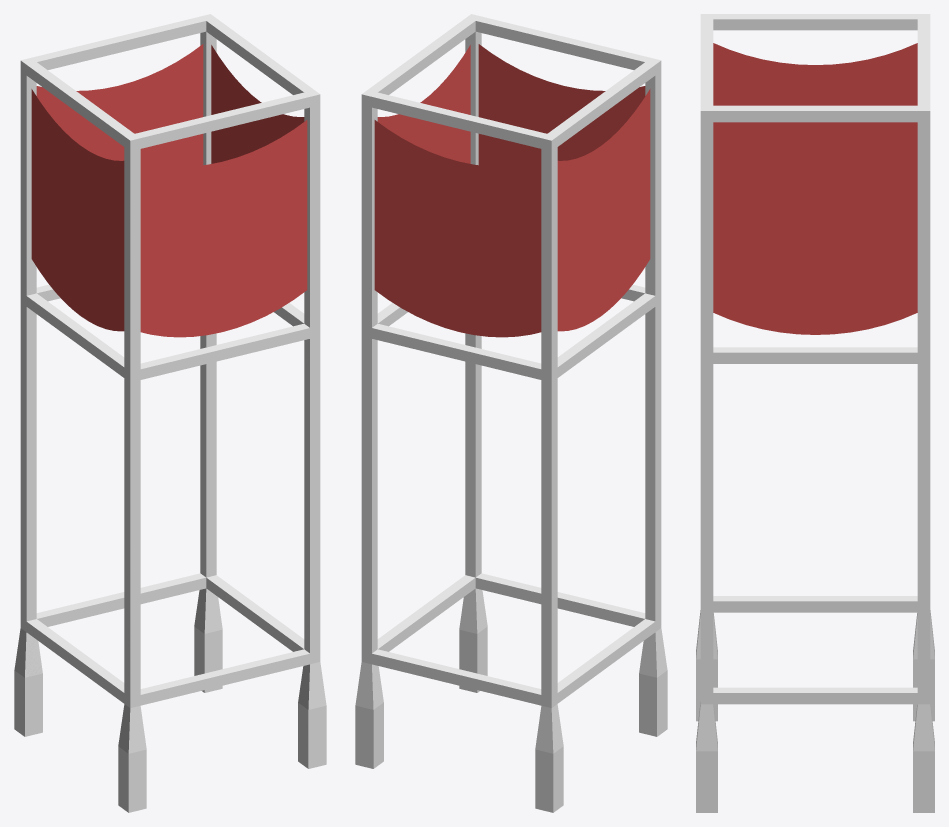
Rendered from kit_bannerTowerRed.obj.
3 views of the same model, side by side, from view 1: azimuth 30°, elevation 25°; view 2: azimuth 150°, elevation 25°; view 3: azimuth 270°, elevation 25° (orthographic). The views are drawn at different scales.
Parts seen in each view (by area): view 1: bannerTowerRed; view 2: bannerTowerRed; view 3: bannerTowerRed.
Boxes of the visible parts, x1,y1,x2,y2 form: bannerTowerRed: (14, 14, 326, 812); bannerTowerRed: (355, 14, 667, 812); bannerTowerRed: (696, 14, 934, 812).
Bounding box in the file's own units: 0.3852 × 1.25 × 0.3852.
